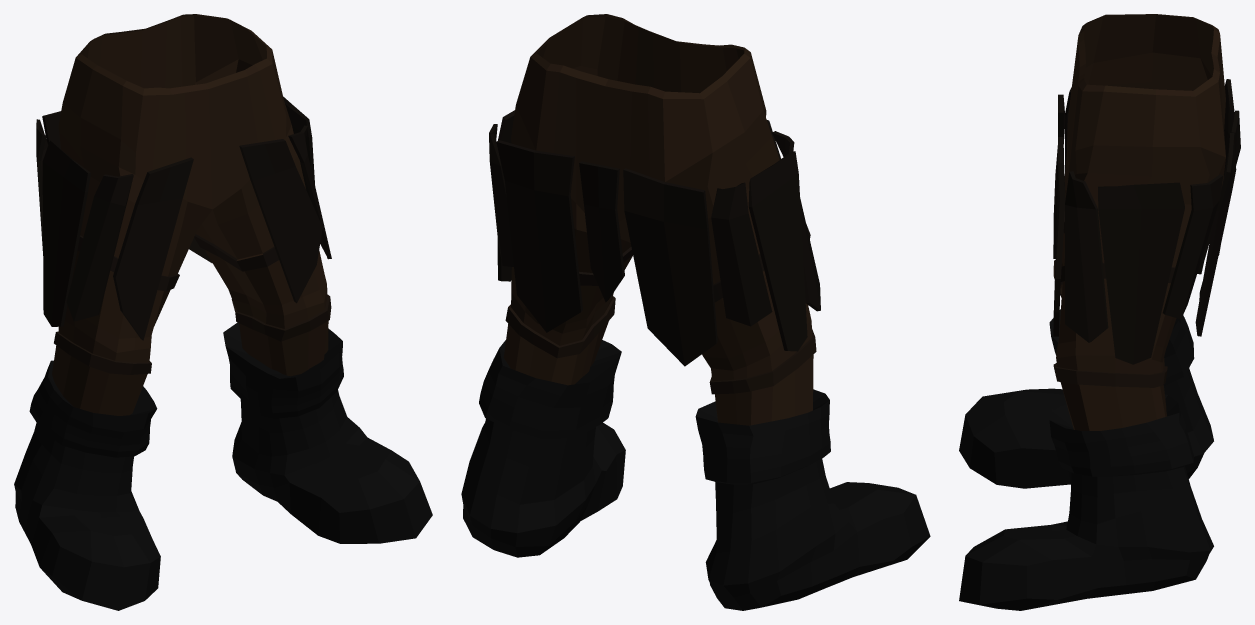
Rendered from Leg_Leather_Armor.fbx.
3 views of the same model, side by side, from view 1: azimuth 30°, elevation 25°; view 2: azimuth 150°, elevation 25°; view 3: azimuth 270°, elevation 25° (orthographic). The views are drawn at different scales.
Visible parts, largest first — view 1: Joe.002; view 2: Joe.002; view 3: Joe.002.
Part boxes in pixels (x1,y1,x2,y2): Joe.002: [14, 14, 432, 610]; Joe.002: [461, 14, 930, 610]; Joe.002: [959, 14, 1240, 610].
Size of the model in its own units: 129 by 160 by 83.62.
